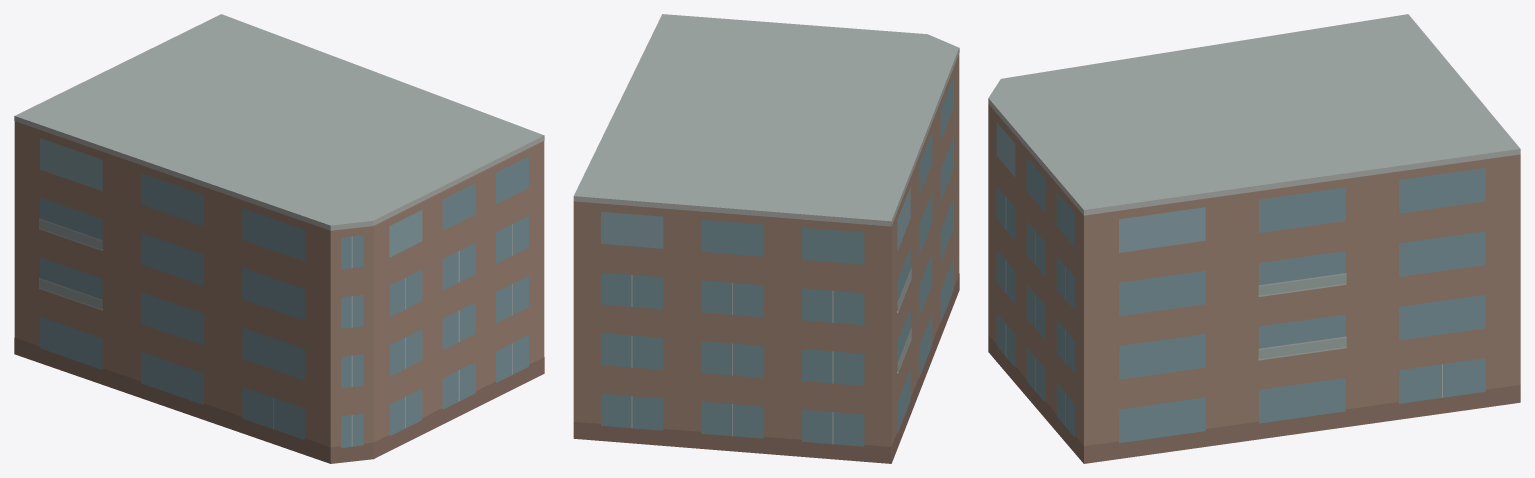
Rendered from survey-upis-32863880.glb.
3 views of the same model, side by side, from view 1: azimuth 30°, elevation 25°; view 2: azimuth 150°, elevation 25°; view 3: azimuth 270°, elevation 25° (orthographic). The views are drawn at different scales.
Parts seen in each view (by area): view 1: survey-upis-32863880.tmp; view 2: survey-upis-32863880.tmp; view 3: survey-upis-32863880.tmp.
Part boxes in pixels (x1,y1,x2,y2): survey-upis-32863880.tmp: [14, 14, 544, 463]; survey-upis-32863880.tmp: [573, 14, 959, 463]; survey-upis-32863880.tmp: [988, 14, 1520, 463].
Bounding box in the file's own units: 18.66 × 11.25 × 21.4.
